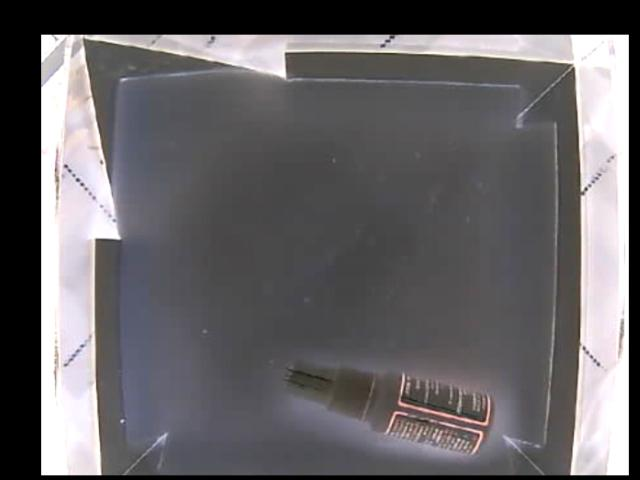Bottle: (286, 359, 492, 454)
